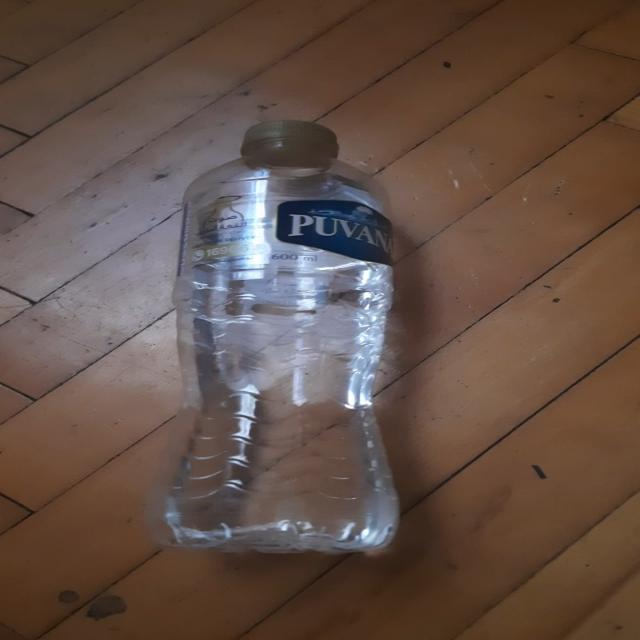Plastic: (150, 120, 401, 558)
